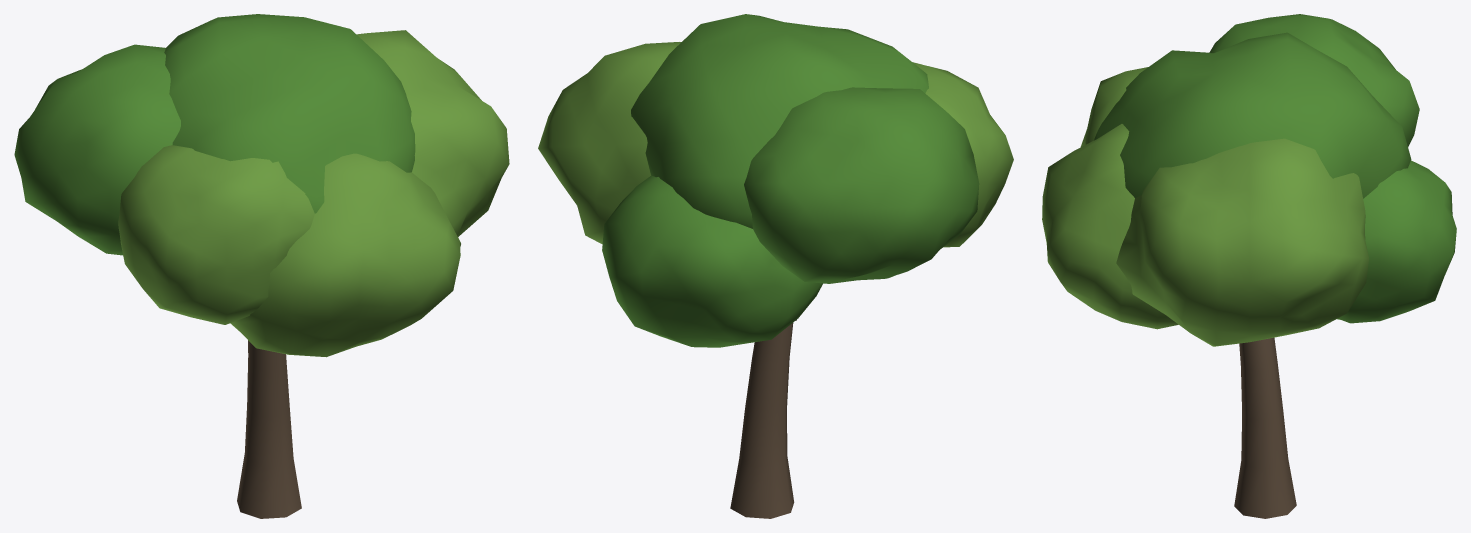
The model's file is oak_3.glb.
3 views of the same model, side by side, from view 1: azimuth 30°, elevation 25°; view 2: azimuth 150°, elevation 25°; view 3: azimuth 270°, elevation 25° (orthographic). The views are drawn at different scales.
Parts seen in each view (by area): view 1: oak_3; view 2: oak_3; view 3: oak_3.
Part boxes in pixels (<box>): oak_3: <box>14,14,509,518</box>; oak_3: <box>538,14,1013,518</box>; oak_3: <box>1042,14,1456,518</box>.
Size of the model in its own units: 6.42 by 6.97 by 5.82.
